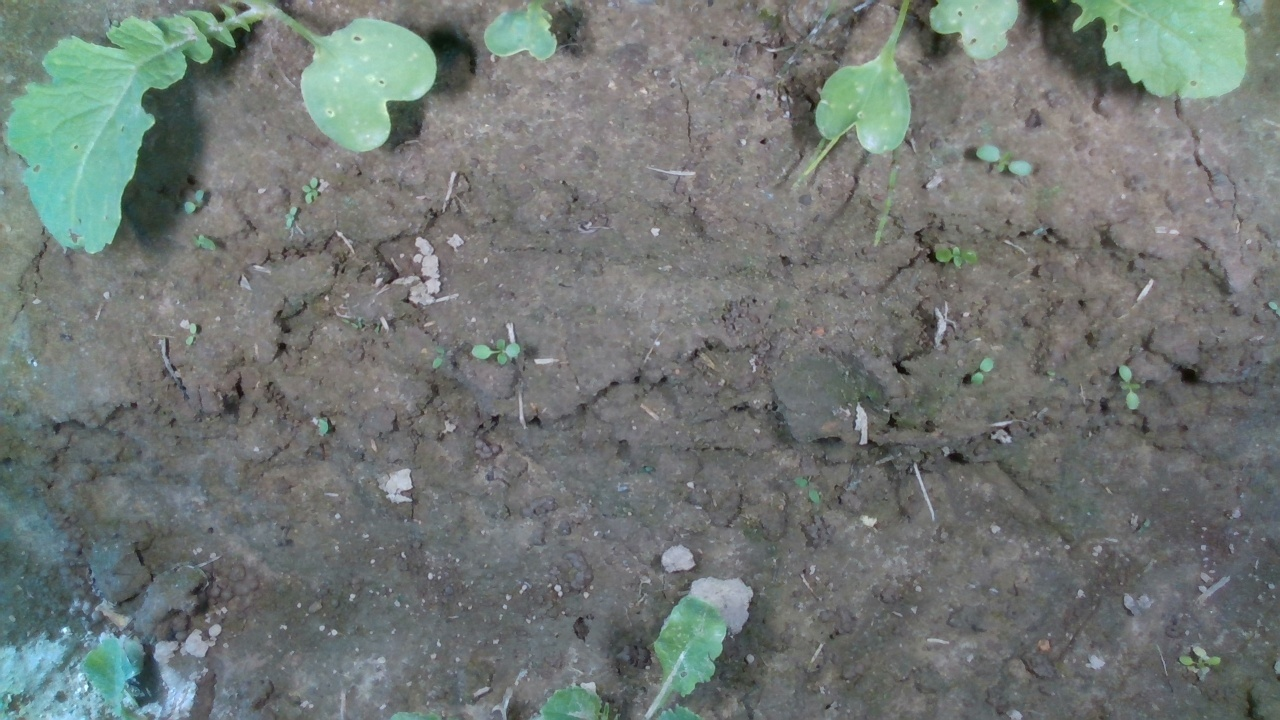weed: (973, 143, 1033, 178), (470, 335, 523, 369), (1177, 644, 1222, 681), (933, 242, 981, 271), (1117, 364, 1143, 411), (791, 476, 821, 508), (967, 355, 995, 388), (182, 184, 206, 216), (428, 341, 452, 371), (186, 231, 218, 253), (300, 175, 320, 206), (282, 205, 298, 231), (184, 321, 199, 347)
